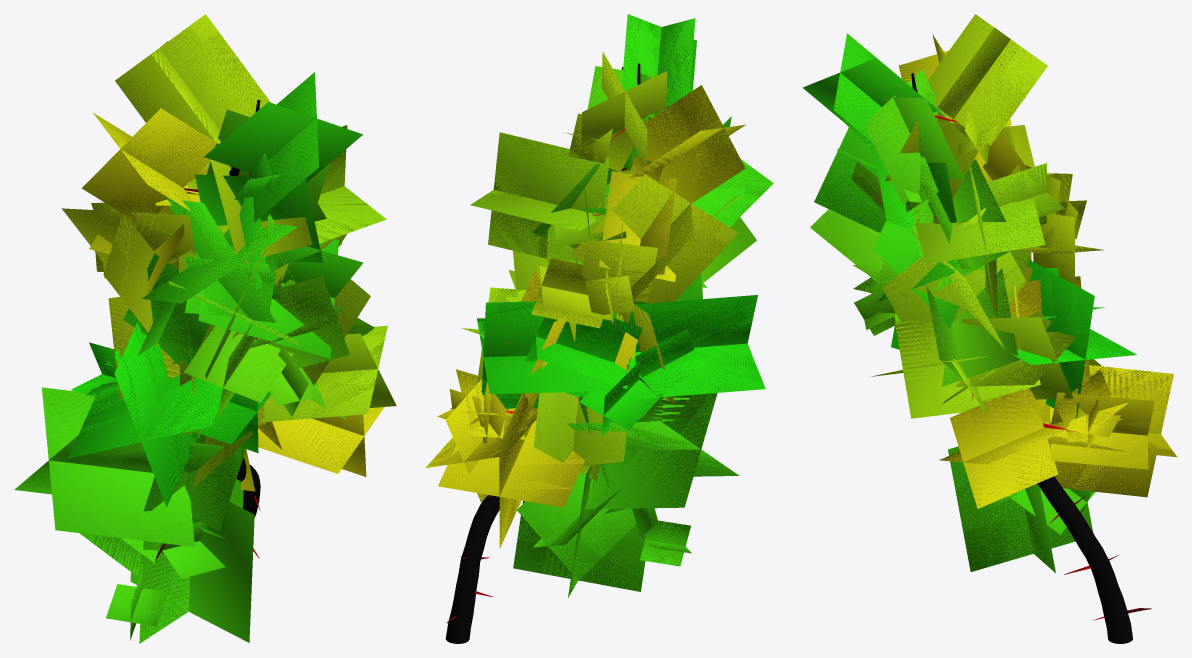
File: Type_5_Tree_4.fbx
3 renders of one model, left to right at view 1: azimuth 30°, elevation 25°; view 2: azimuth 150°, elevation 25°; view 3: azimuth 270°, elevation 25°, orthographic. The views are drawn at different scales.
Visible parts, largest first — view 1: Leaf, Trunk; view 2: Leaf, Trunk; view 3: Leaf, Trunk.
Part boxes in pixels (x1=…): Leaf: x1=14, y1=14, x2=396, y2=643; Trunk: x1=155, y1=99, x2=260, y2=561; Leaf: x1=425, y1=14, x2=773, y2=597; Trunk: x1=445, y1=63, x2=649, y2=643; Leaf: x1=803, y1=14, x2=1176, y2=572; Trunk: x1=911, y1=73, x2=1151, y2=643.
Bounding box in the file's own units: 2460 × 4560 × 2718.
